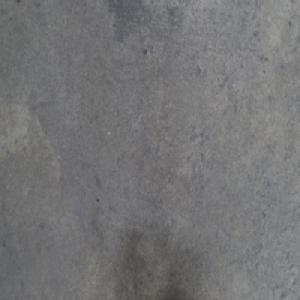AdjustableWrench: (166, 289, 198, 299)
